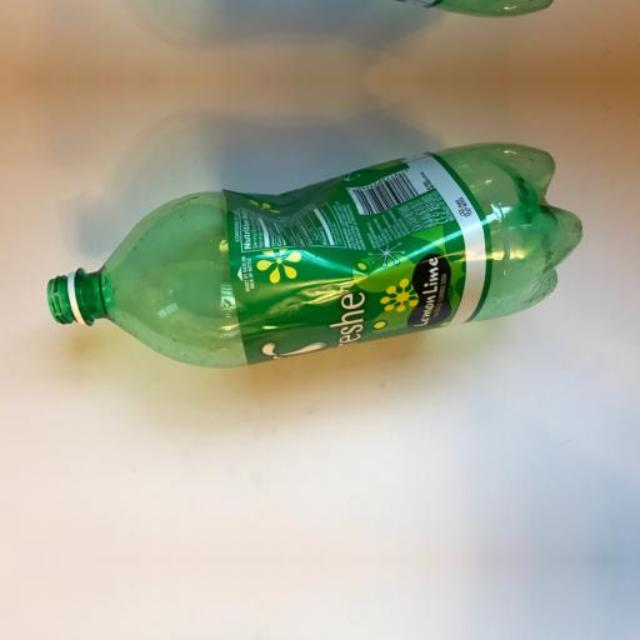Plastic: (37, 140, 599, 370), (37, 0, 599, 20)
